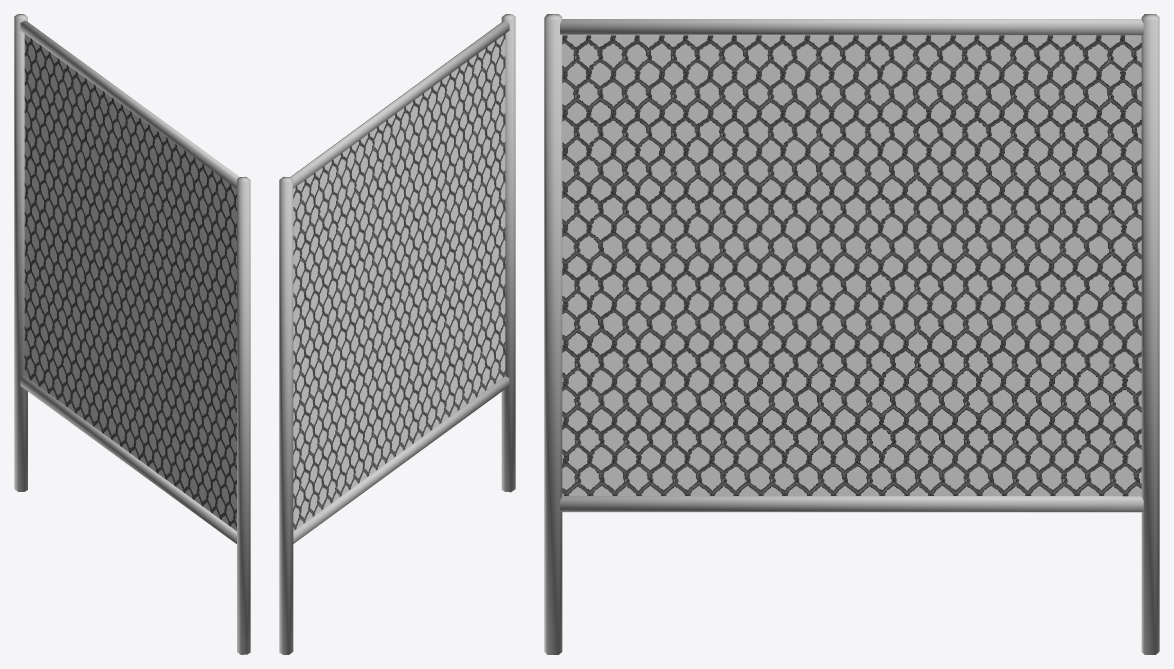
The model's file is RoadProp_WiremeshFence_01a.fbx.
3 views of the same model, side by side, from view 1: azimuth 30°, elevation 25°; view 2: azimuth 150°, elevation 25°; view 3: azimuth 270°, elevation 25° (orthographic). The views are drawn at different scales.
Visible parts, largest first — view 1: RoadProp_WiremeshFence_01a; view 2: RoadProp_WiremeshFence_01a; view 3: RoadProp_WiremeshFence_01a.
Part boxes in pixels (left/top/right/bottom): RoadProp_WiremeshFence_01a: left=14, top=14, right=250, bottom=654; RoadProp_WiremeshFence_01a: left=279, top=14, right=515, bottom=654; RoadProp_WiremeshFence_01a: left=544, top=14, right=1159, bottom=654.
Size of the model in its own units: 0.0413 by 1.95 by 1.7.
